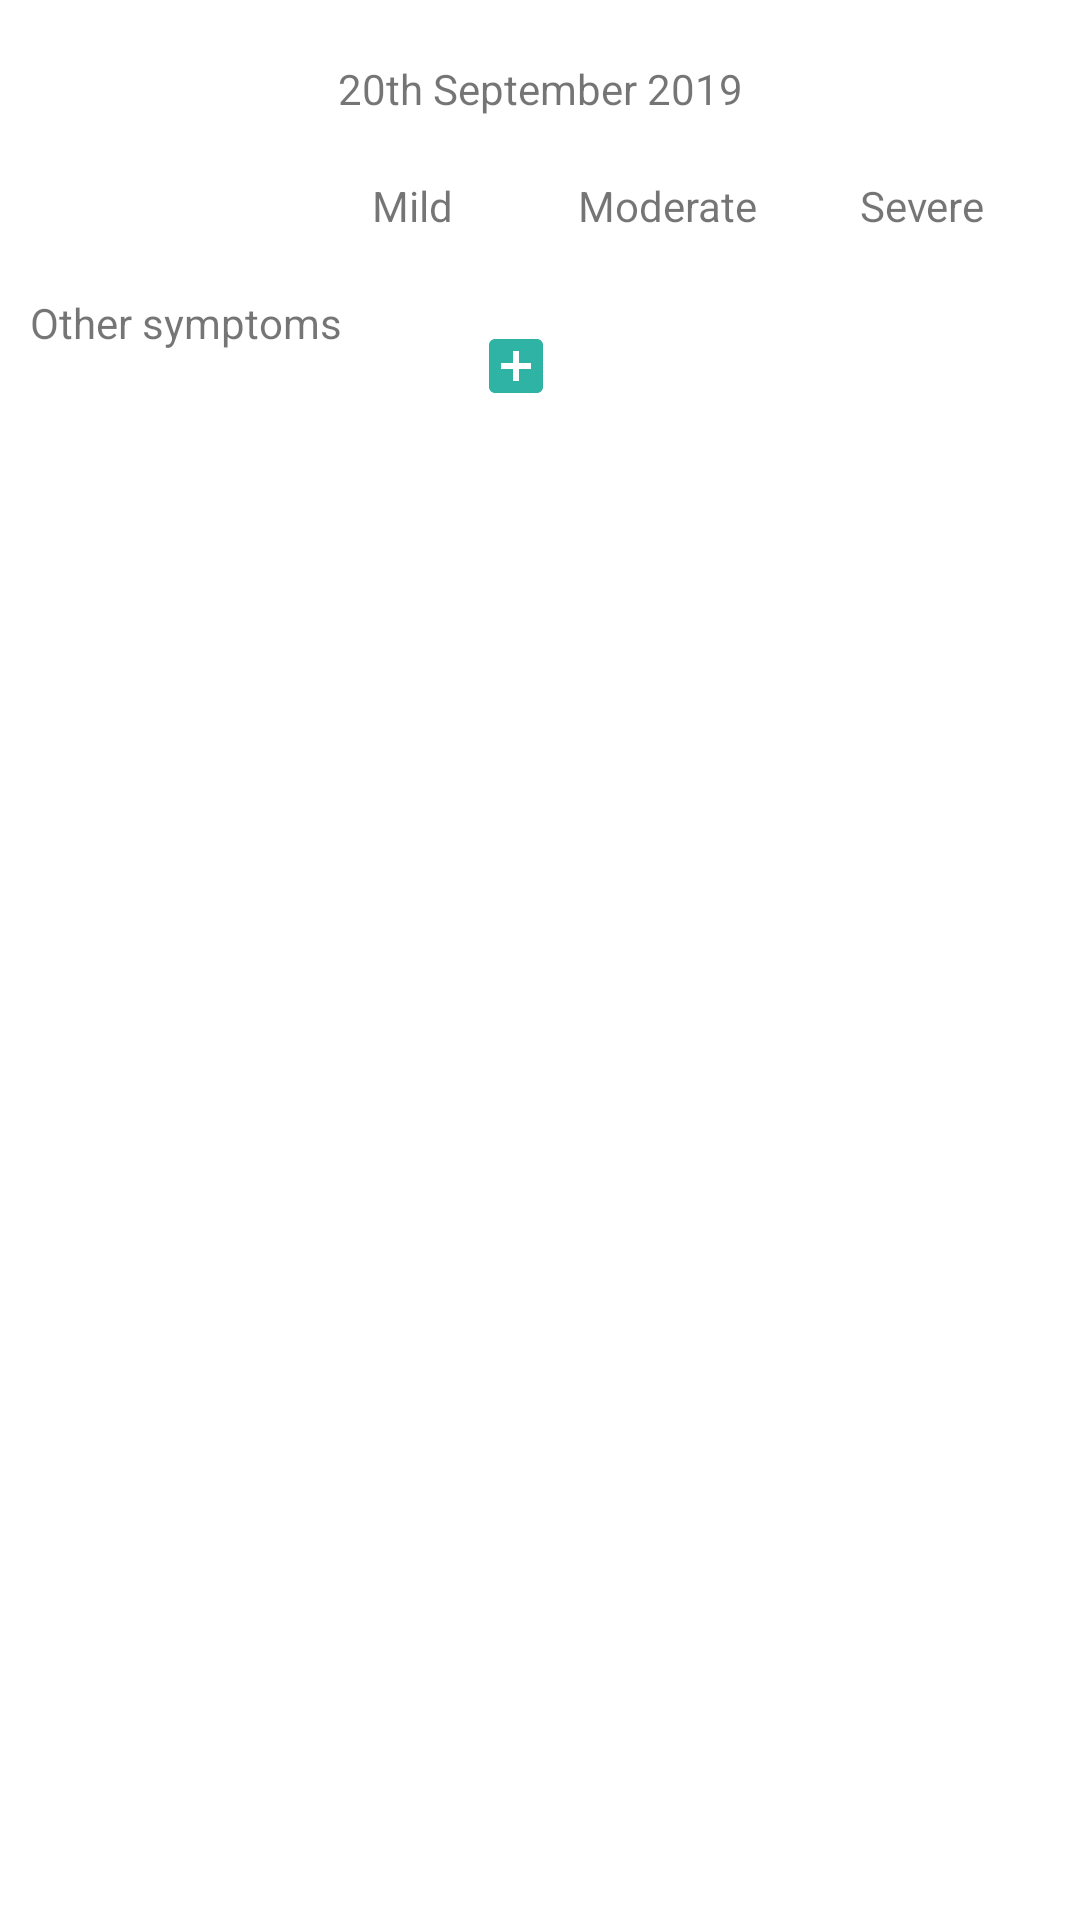

Named icons in this screenshot (1080px×1920px) and their centers, (x=x, y=y):
add box: (x=516, y=366)
